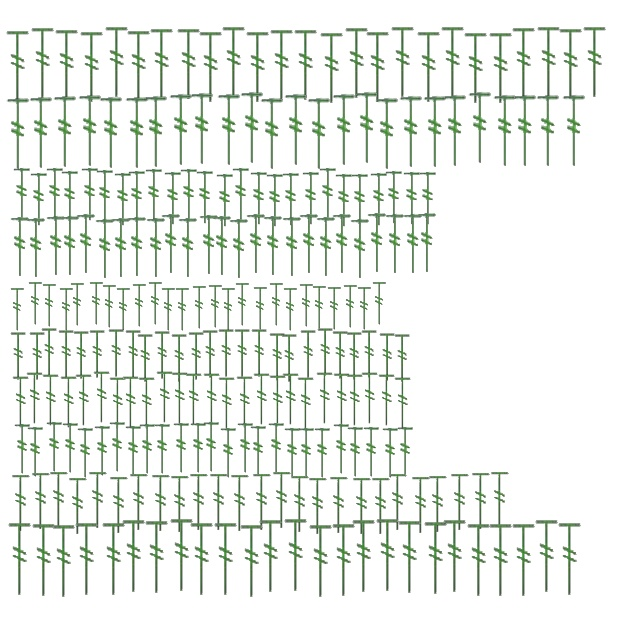fan: (6, 521, 34, 597), (30, 522, 58, 598), (50, 523, 78, 599), (73, 521, 101, 597), (100, 521, 128, 597), (120, 518, 148, 594), (143, 519, 171, 595), (168, 517, 196, 593), (188, 521, 216, 597), (212, 521, 240, 597), (238, 523, 266, 599), (257, 518, 285, 594), (282, 517, 310, 593), (307, 523, 335, 599), (330, 522, 358, 598), (350, 518, 378, 594), (374, 517, 402, 593), (396, 519, 424, 595), (422, 520, 450, 596), (441, 518, 469, 594), (465, 522, 493, 598), (487, 522, 515, 598), (510, 522, 538, 598), (533, 518, 561, 594), (556, 521, 584, 597), (4, 29, 32, 103), (29, 26, 57, 100), (53, 28, 81, 102), (78, 30, 106, 104), (103, 25, 131, 99), (125, 29, 153, 103), (148, 27, 176, 101), (175, 27, 203, 101), (197, 30, 225, 104), (220, 25, 248, 99), (244, 30, 272, 104), (268, 28, 296, 102), (292, 28, 320, 102), (318, 31, 346, 105), (343, 26, 371, 100), (364, 30, 392, 104), (389, 25, 417, 99), (415, 30, 443, 104), (439, 25, 467, 99), (462, 31, 490, 105), (487, 31, 515, 105), (510, 26, 538, 100), (535, 25, 563, 99), (557, 27, 585, 101), (581, 25, 609, 99), (28, 96, 54, 170), (52, 95, 78, 169), (98, 96, 124, 170), (124, 96, 150, 170), (168, 93, 194, 167), (216, 93, 242, 167), (306, 97, 332, 171), (354, 91, 380, 165), (374, 97, 400, 171), (398, 95, 424, 169), (422, 95, 448, 169), (442, 94, 468, 168), (492, 94, 518, 168), (512, 94, 538, 168), (6, 97, 30, 171), (78, 94, 102, 168), (144, 95, 168, 169), (190, 92, 214, 166), (240, 91, 264, 165), (260, 97, 284, 171), (284, 93, 308, 167), (332, 93, 356, 167), (468, 91, 492, 165), (536, 94, 560, 168), (562, 94, 586, 168), (94, 218, 116, 280), (110, 217, 132, 279), (126, 216, 148, 278), (160, 213, 182, 275), (198, 214, 220, 276), (228, 218, 250, 280), (262, 215, 284, 277), (298, 213, 320, 275), (366, 212, 388, 274), (384, 213, 406, 275), (402, 213, 424, 275), (416, 212, 438, 274), (10, 473, 32, 533), (30, 471, 52, 531), (48, 470, 70, 530), (67, 476, 89, 536), (87, 470, 109, 530), (108, 475, 130, 535), (128, 472, 150, 532), (150, 473, 172, 533), (169, 474, 191, 534), (188, 472, 210, 532), (208, 472, 230, 532), (229, 473, 251, 533), (251, 472, 273, 532), (271, 470, 293, 530), (289, 474, 311, 534), (307, 476, 329, 536), (328, 475, 350, 535), (351, 476, 373, 536), (370, 476, 392, 536), (387, 472, 409, 532), (410, 475, 432, 535), (427, 474, 449, 534), (449, 472, 471, 532), (470, 471, 492, 531), (489, 470, 511, 530), (10, 216, 30, 278), (26, 217, 46, 279), (46, 215, 66, 277), (60, 215, 80, 277), (76, 213, 96, 275), (146, 217, 166, 279), (178, 217, 198, 279), (212, 215, 232, 277), (246, 213, 266, 275), (282, 216, 302, 278), (316, 216, 336, 278), (332, 213, 352, 275), (350, 218, 370, 280), (60, 170, 80, 226), (144, 168, 164, 224), (384, 170, 404, 226), (12, 168, 32, 222), (80, 168, 100, 222), (318, 168, 338, 222), (334, 174, 354, 228), (350, 174, 370, 228), (402, 172, 422, 226), (418, 172, 438, 226), (11, 375, 31, 429), (25, 371, 45, 425), (41, 373, 61, 427), (59, 375, 79, 429), (74, 373, 94, 427), (92, 370, 112, 424), (108, 376, 128, 430), (121, 375, 141, 429), (137, 376, 157, 430), (155, 370, 175, 424), (170, 371, 190, 425), (184, 372, 204, 426), (202, 372, 222, 426), (217, 376, 237, 430), (235, 375, 255, 429), (252, 372, 272, 426), (268, 374, 288, 428), (281, 372, 301, 426), (296, 376, 316, 430), (315, 371, 335, 425), (332, 372, 352, 426), (345, 373, 365, 427), (360, 371, 380, 425), (377, 373, 397, 427), (393, 376, 413, 430), (30, 172, 48, 228), (114, 172, 132, 228), (128, 170, 146, 226), (180, 168, 198, 224), (196, 170, 214, 226), (282, 172, 300, 228), (370, 172, 388, 228), (28, 331, 48, 381), (40, 327, 60, 377), (72, 330, 92, 380), (88, 329, 108, 379), (124, 329, 144, 379), (136, 333, 156, 383), (170, 333, 190, 383), (250, 328, 270, 378), (268, 332, 288, 382), (280, 333, 300, 383), (316, 327, 336, 377), (360, 329, 380, 379), (378, 332, 398, 382), (46, 168, 64, 222), (96, 170, 114, 224), (164, 172, 182, 226), (216, 174, 234, 228), (232, 168, 250, 222), (250, 172, 268, 226), (266, 174, 284, 228), (302, 172, 320, 226), (13, 423, 31, 475), (26, 426, 44, 478), (45, 421, 63, 473), (61, 422, 79, 474), (76, 427, 94, 479), (93, 425, 111, 477), (108, 421, 126, 473), (124, 425, 142, 477), (138, 423, 156, 475), (153, 423, 171, 475), (172, 422, 190, 474), (189, 422, 207, 474), (202, 421, 220, 473), (219, 427, 237, 479), (236, 422, 254, 474), (249, 425, 267, 477), (267, 422, 285, 474), (283, 427, 301, 479), (297, 427, 315, 479), (313, 427, 331, 479), (332, 423, 350, 475), (346, 426, 364, 478), (362, 426, 380, 478), (381, 427, 399, 479), (396, 426, 414, 478), (10, 331, 28, 381), (58, 329, 76, 379), (108, 328, 126, 378), (154, 330, 172, 380), (188, 331, 206, 381), (202, 329, 220, 379), (218, 328, 236, 378), (234, 328, 252, 378), (300, 329, 318, 379), (332, 330, 350, 380), (346, 331, 364, 381), (394, 333, 412, 383), (58, 286, 76, 334), (88, 280, 106, 328), (160, 286, 178, 334), (174, 286, 192, 334), (220, 286, 238, 334), (282, 286, 300, 334), (298, 282, 316, 330), (234, 282, 252, 328), (252, 286, 270, 332), (268, 282, 286, 328), (326, 286, 344, 332), (342, 284, 360, 330), (356, 286, 374, 332), (10, 286, 26, 334), (28, 280, 44, 328), (42, 282, 58, 330), (116, 286, 132, 334), (132, 282, 148, 330), (148, 280, 164, 328), (192, 284, 208, 332), (312, 284, 328, 332), (372, 280, 388, 328), (70, 282, 86, 328), (102, 284, 118, 330), (208, 284, 224, 330)
